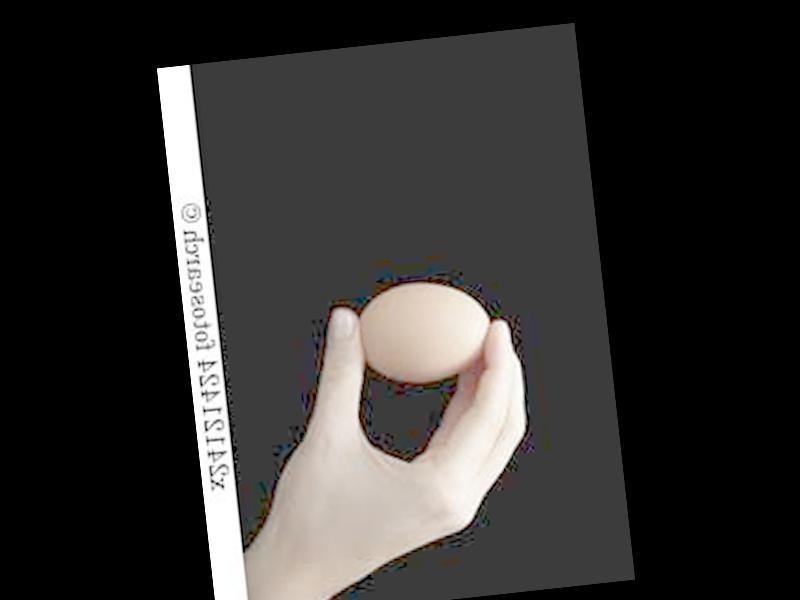Eggs: (355, 276, 499, 387)
